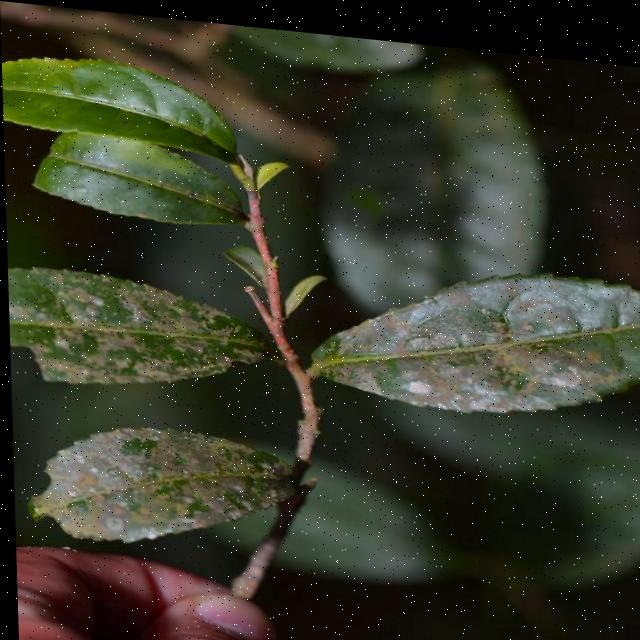Tea algae leaf spot: (321, 241, 612, 402), (66, 407, 294, 544)
